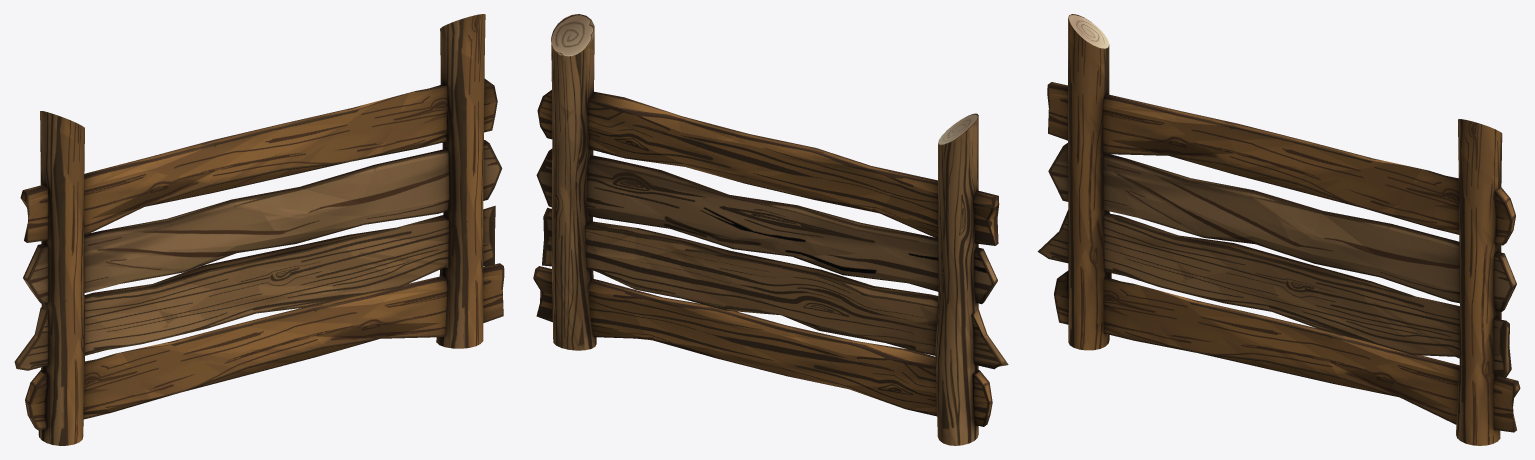
File: EnvFence1.fbx
3 renders of one model, left to right at view 1: azimuth 30°, elevation 25°; view 2: azimuth 150°, elevation 25°; view 3: azimuth 330°, elevation 25°, orthographic. The views are drawn at different scales.
Visible parts, largest first — view 1: wooden Planks1; view 2: wooden Planks1; view 3: wooden Planks1.
Part boxes in pixels (left/top/right/bottom): wooden Planks1: left=14, top=14, right=504, bottom=445; wooden Planks1: left=533, top=14, right=1008, bottom=445; wooden Planks1: left=1037, top=14, right=1520, bottom=445.
Bounding box in the file's own units: 81.21 × 52.67 × 7.23.
1 material, 1 textured.
